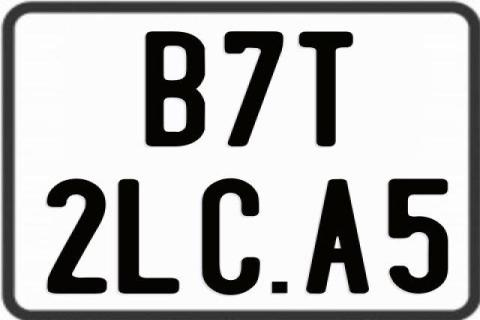0: (224, 30, 289, 146), (386, 178, 448, 298), (47, 176, 108, 295)
A: (306, 178, 374, 296)
B: (144, 30, 207, 146)
C: (200, 177, 262, 297)
L: (118, 180, 185, 296)
T: (296, 29, 354, 150)
